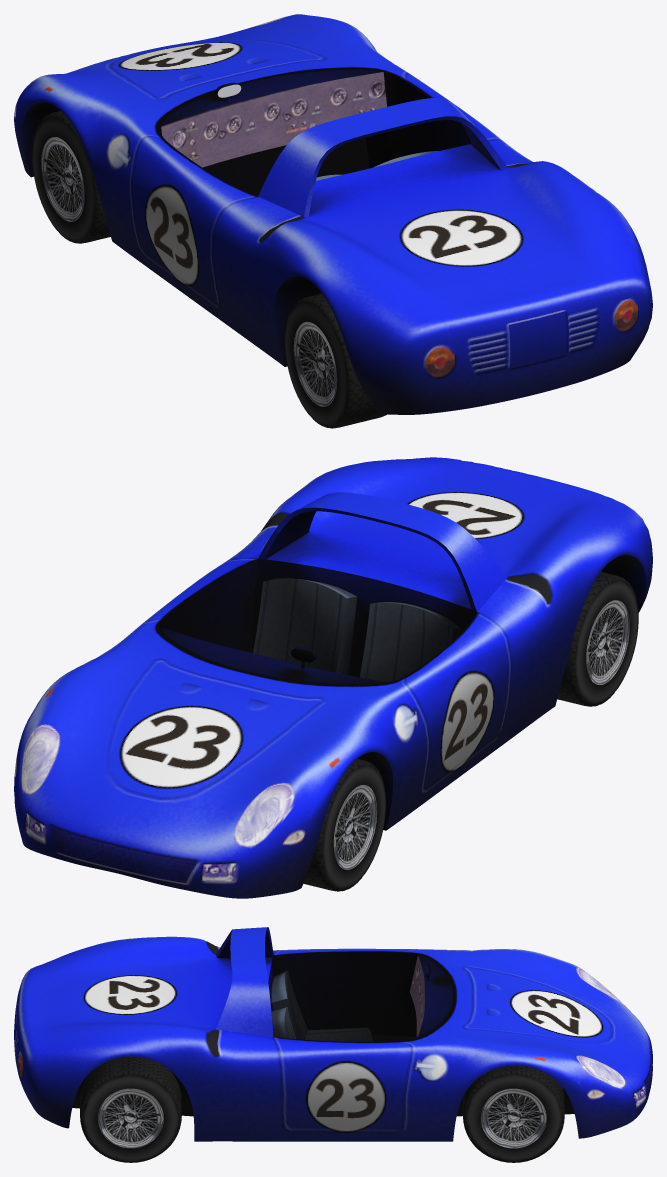
File: carNoSteeringWheel.obj
The picture shows the model from 3 angles, top to bottom: view 1: azimuth 30°, elevation 25°; view 2: azimuth 150°, elevation 25°; view 3: azimuth 270°, elevation 25°; orthographic projection. The views are drawn at different scales.
Visible parts, largest first — view 1: Car; view 2: Car; view 3: Car.
Boxes of the visible parts, x1=… form: Car: x1=14, y1=14, x2=652, y2=428; Car: x1=14, y1=457, x2=652, y2=898; Car: x1=14, y1=927, x2=652, y2=1162.
Size of the model in its own units: 2.05 by 1.39 by 4.96.
Materials: 2 (1 with a texture image).
